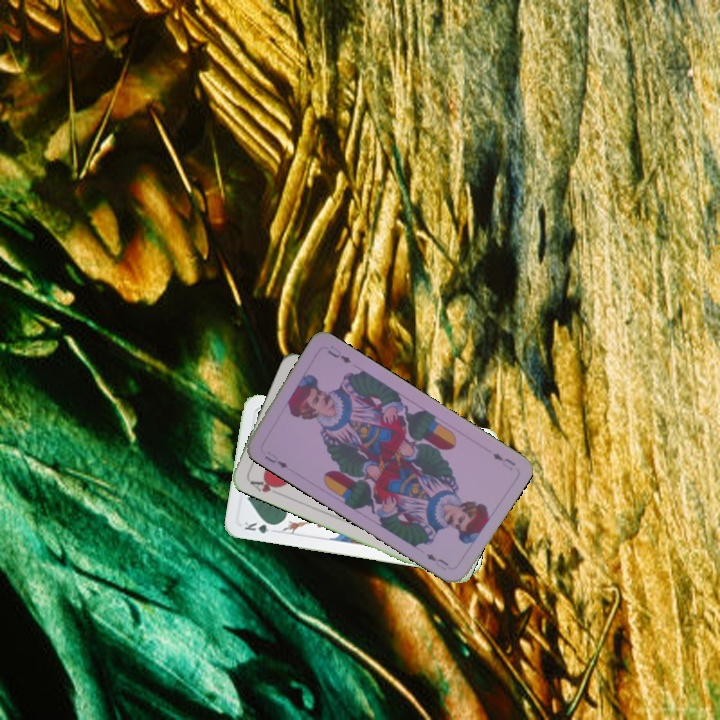EU: (488, 449, 518, 473), (260, 448, 290, 471)
GK: (239, 517, 280, 536)
HA: (246, 475, 285, 495)
